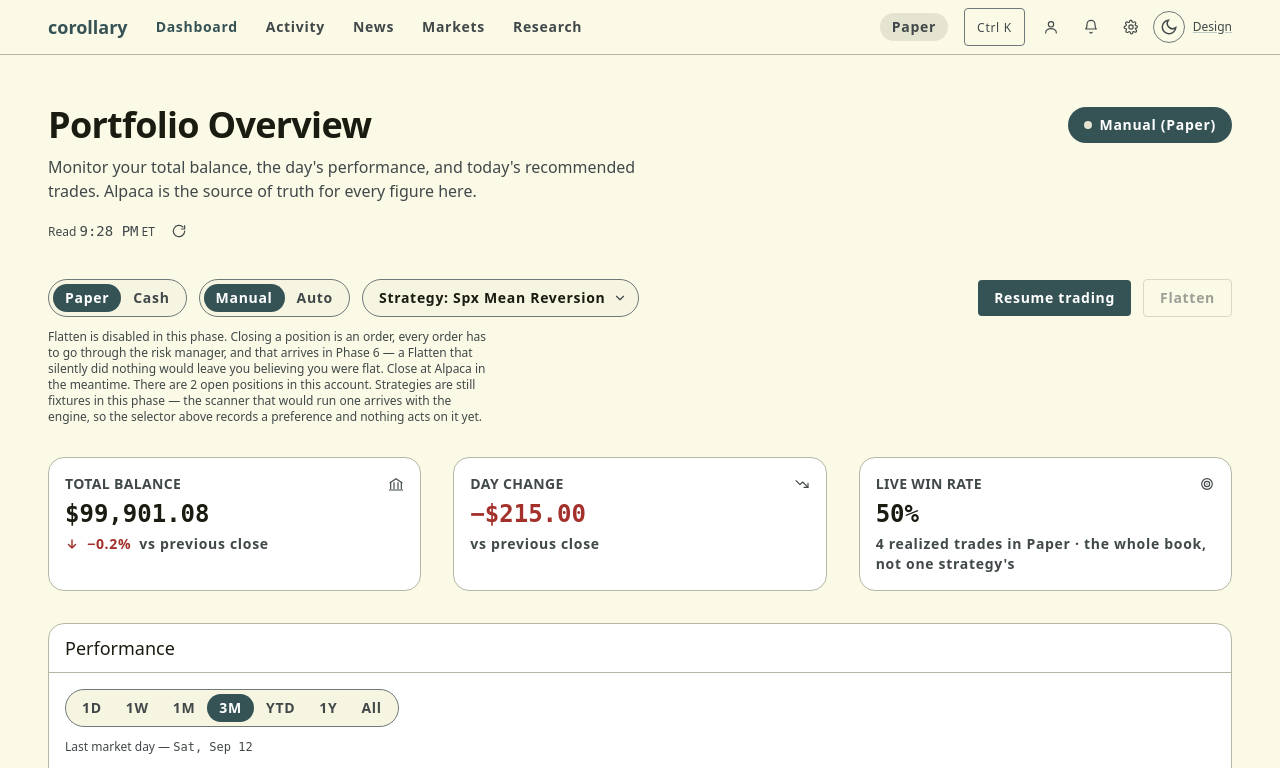
Cash without credentials › renders the server’s reason and the missing variable names, not an idle account
Click the button "Cash" at (151, 298), box [121,284,182,312]
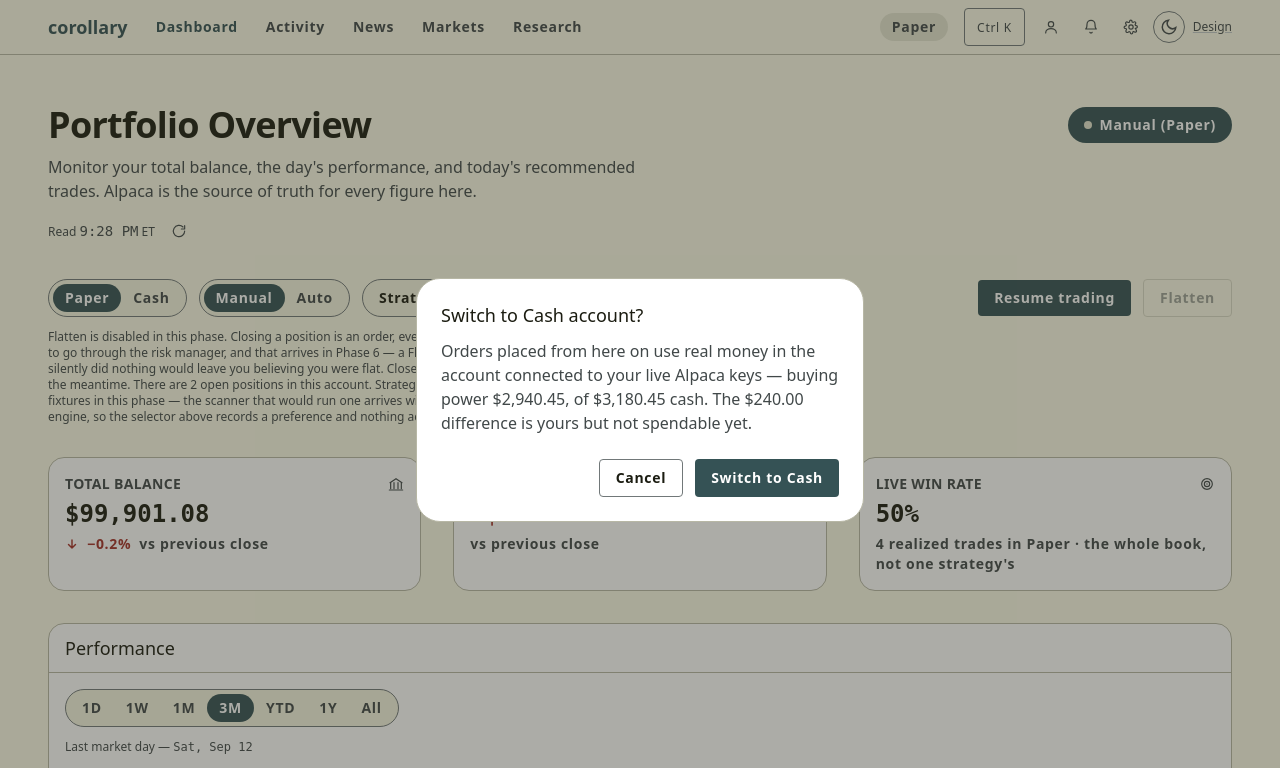
Click the button "Switch to Cash" at (767, 478), box [695,459,839,497]
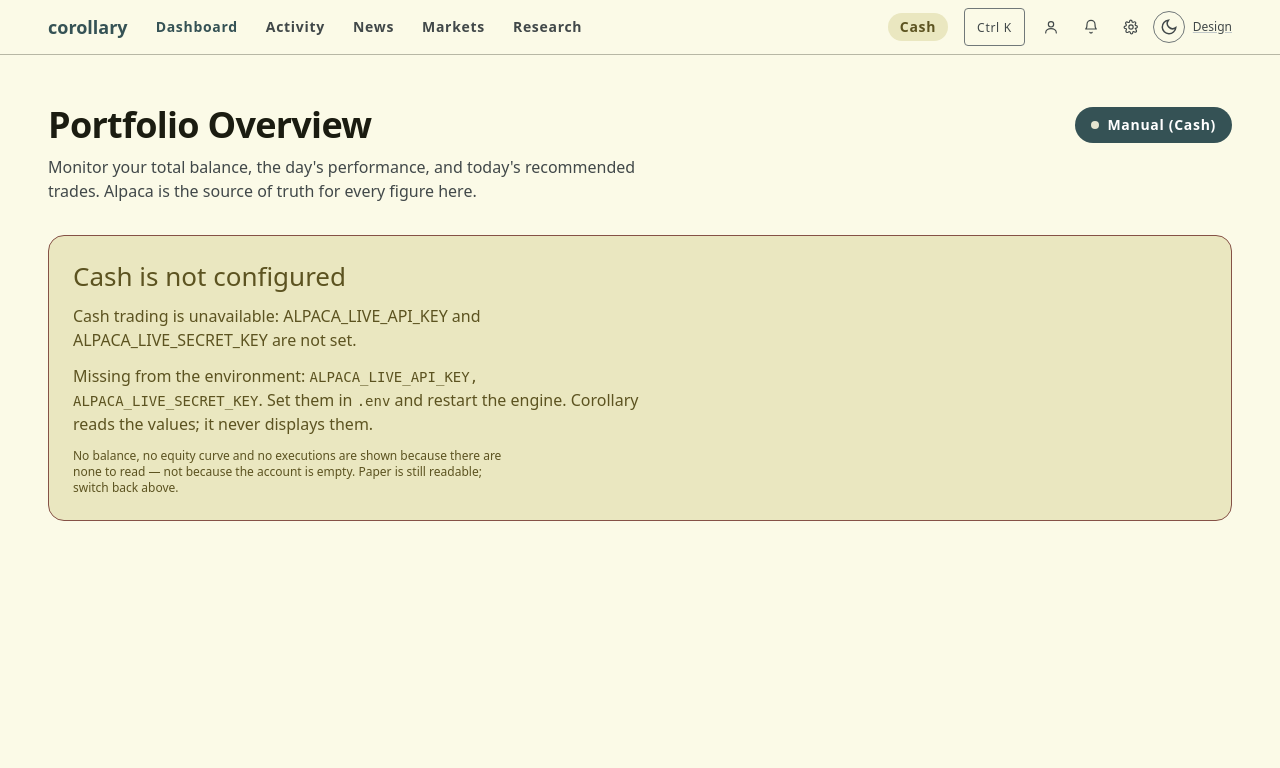
expect the heading "Cash is not configured" is shown: met, box [73,258,346,294]
expect the text "ALPACA_LIVE_API_KEY, ALPACA_LIVE_SECRET_KEY" is shown: met, box [73,369,478,409]
